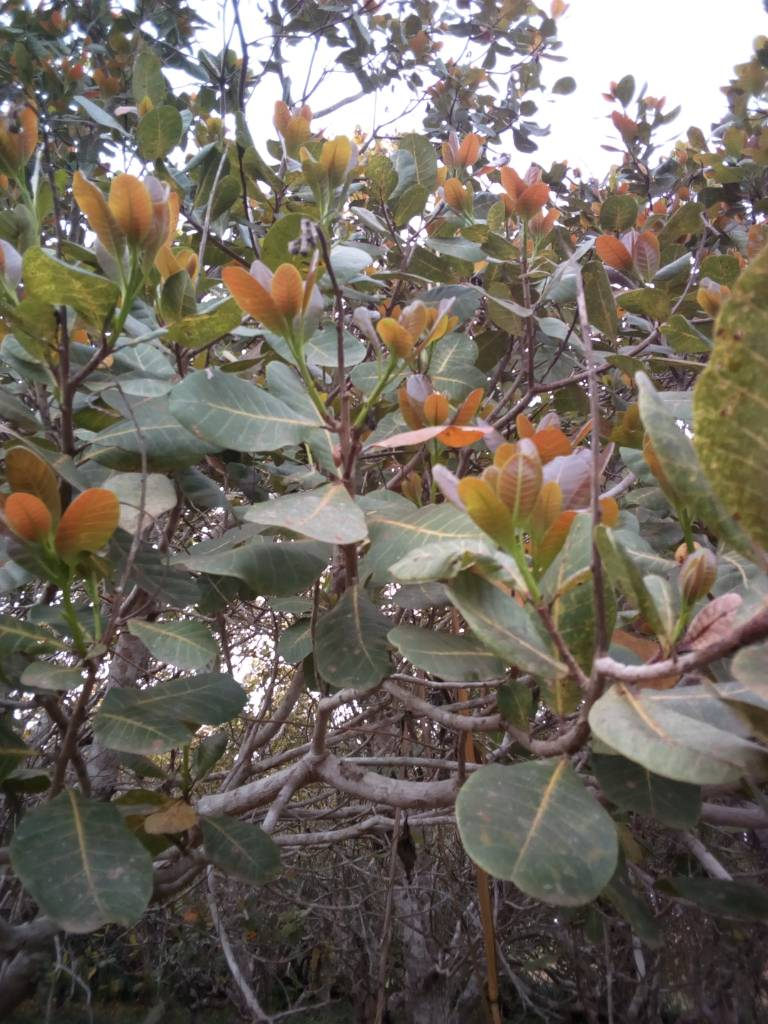Alternariose: (690, 244, 768, 535), (461, 752, 610, 897), (16, 783, 152, 936)
